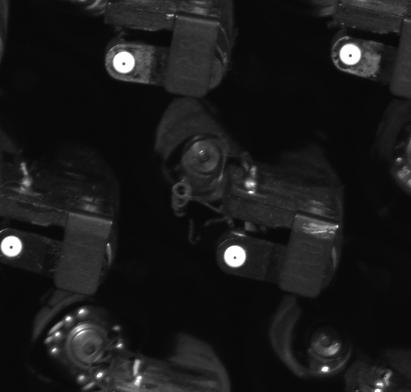fiber: (218, 239, 253, 275), (107, 47, 146, 79), (1, 229, 34, 265), (336, 37, 368, 73)
